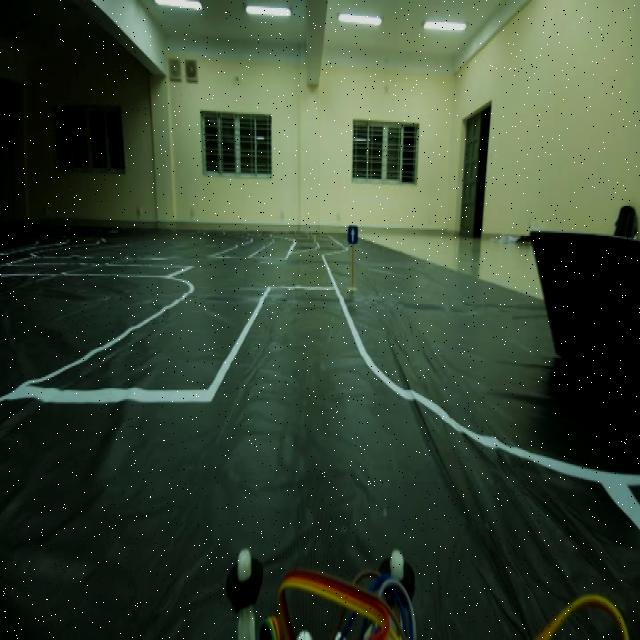onewayroad: (342, 219, 358, 250)
